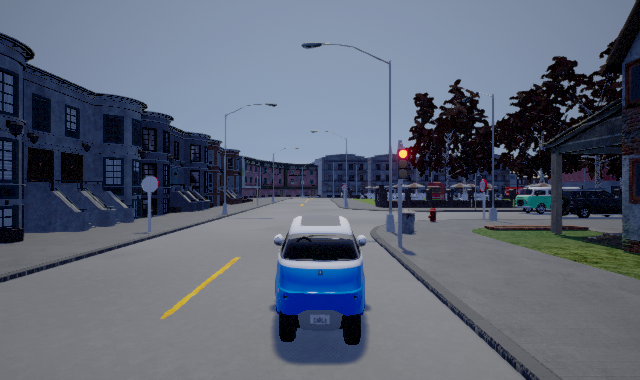traffic_light: (397, 143, 408, 185)
traffic_sign: (477, 179, 487, 192), (341, 184, 348, 191)
vehicle: (274, 215, 367, 345), (562, 187, 622, 218), (505, 187, 551, 214)
